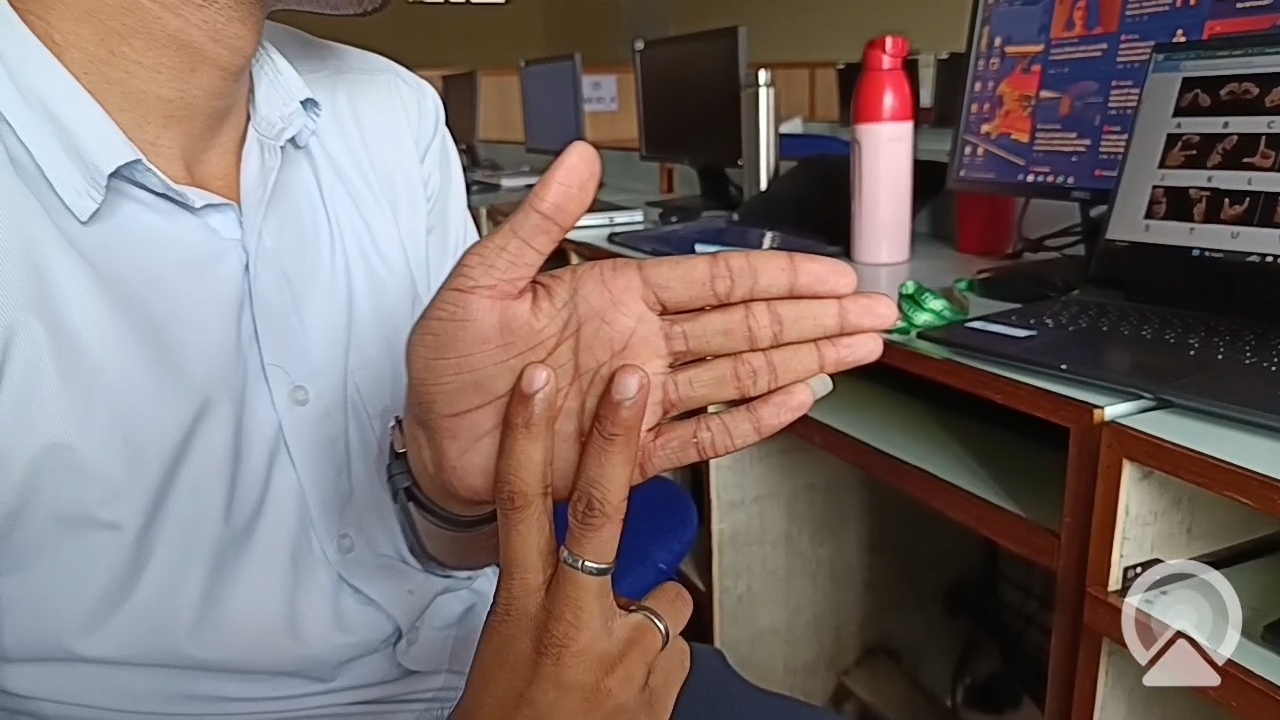N: (394, 121, 944, 720)
